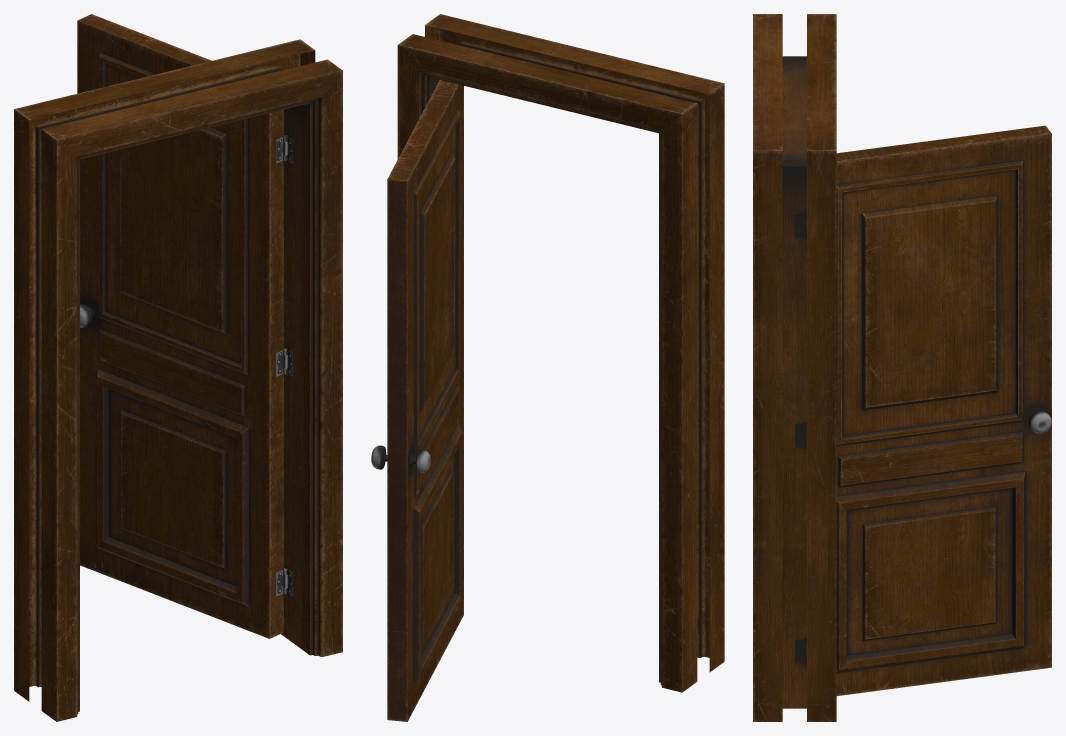
The model's file is door_open.glb.
3 renders of one model, left to right at view 1: azimuth 30°, elevation 25°; view 2: azimuth 150°, elevation 25°; view 3: azimuth 270°, elevation 25°, orthographic.
Parts seen in each view (by area): view 1: door_2_door_0, F_2_f_0, door_2_f_0; view 2: F_2_f_0, door_2_door_0, handel_2_door_0; view 3: door_2_door_0, F_2_f_0.
Part boxes in pixels (x1=…): door_2_door_0: x1=77, y1=14, x2=283, y2=638; F_2_f_0: x1=14, y1=39, x2=342, y2=721; door_2_f_0: x1=276, y1=137, x2=287, y2=596; F_2_f_0: x1=397, y1=14, x2=724, y2=692; door_2_door_0: x1=387, y1=80, x2=463, y2=721; handel_2_door_0: x1=371, y1=445, x2=430, y2=473; door_2_door_0: x1=836, y1=125, x2=1051, y2=695; F_2_f_0: x1=753, y1=14, x2=836, y2=721.
Size of the model in its own units: 18.86 by 36.63 by 17.37.
Materials: 2 (2 with a texture image).
